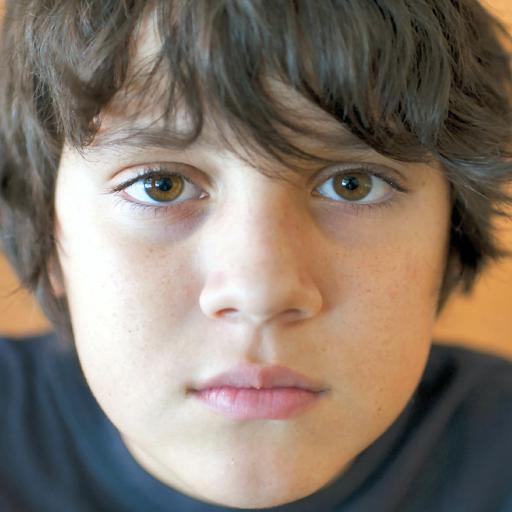Autism: (3, 7, 512, 505)
